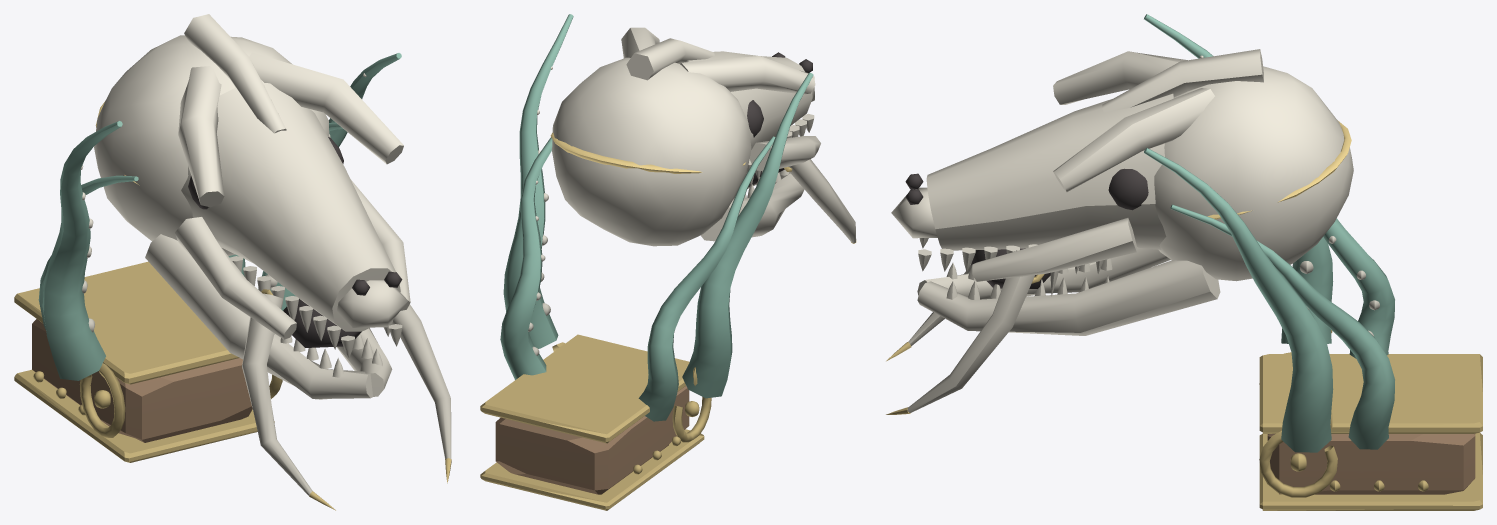
File: leviathan_skull.glb
3 renders of one model, left to right at view 1: azimuth 30°, elevation 25°; view 2: azimuth 150°, elevation 25°; view 3: azimuth 270°, elevation 25°, orthographic. The views are drawn at different scales.
Parts seen in each view (by area): view 1: G_leviathan_skull; view 2: G_leviathan_skull; view 3: G_leviathan_skull.
Boxes of the visible parts, x1,y1,x2,y2 form: G_leviathan_skull: [14, 14, 451, 510]; G_leviathan_skull: [480, 14, 856, 510]; G_leviathan_skull: [886, 14, 1482, 510].
Size of the model in its own units: 1.29 by 1.8 by 2.3.
